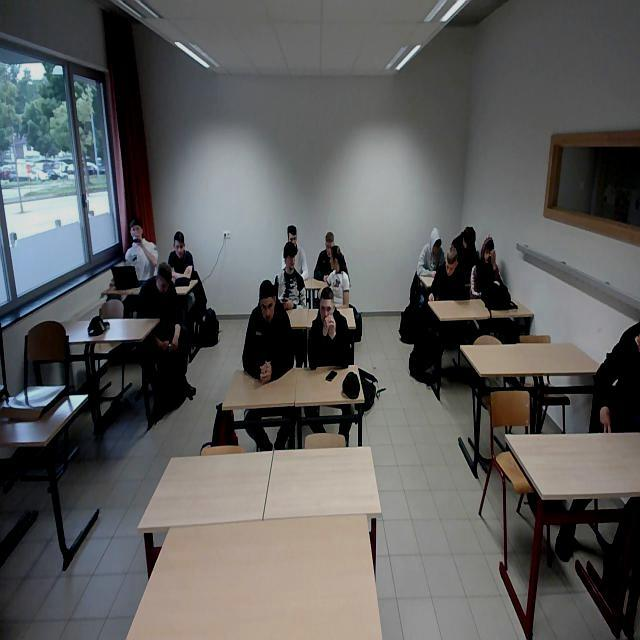Looking away: (150, 266, 175, 295), (327, 247, 347, 275)
Looking forward: (253, 276, 281, 327), (317, 289, 341, 337), (171, 226, 189, 265), (479, 234, 499, 269), (126, 219, 146, 250)
Phone use: (272, 244, 306, 311), (416, 225, 448, 278), (450, 226, 480, 277)
